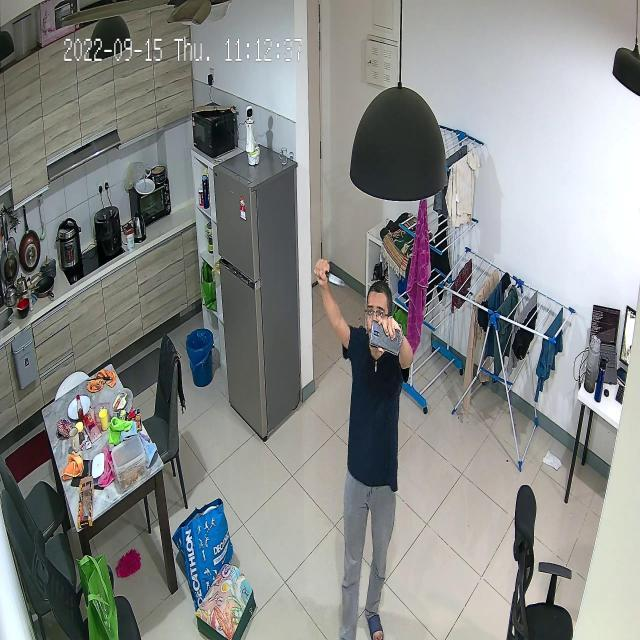Knife: (316, 252, 352, 292)
